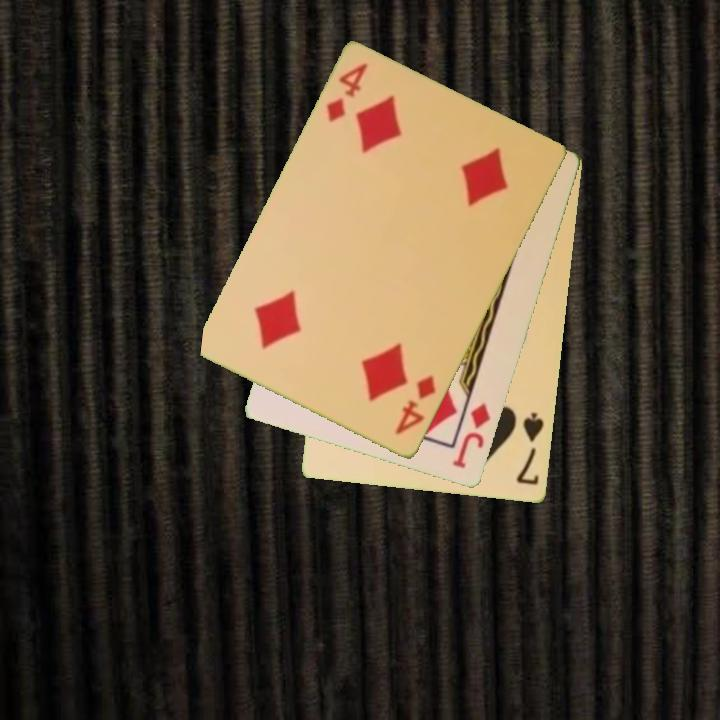4d: (322, 60, 371, 126), (392, 371, 439, 439)
7s: (513, 409, 547, 489)
Jd: (449, 400, 494, 472)
